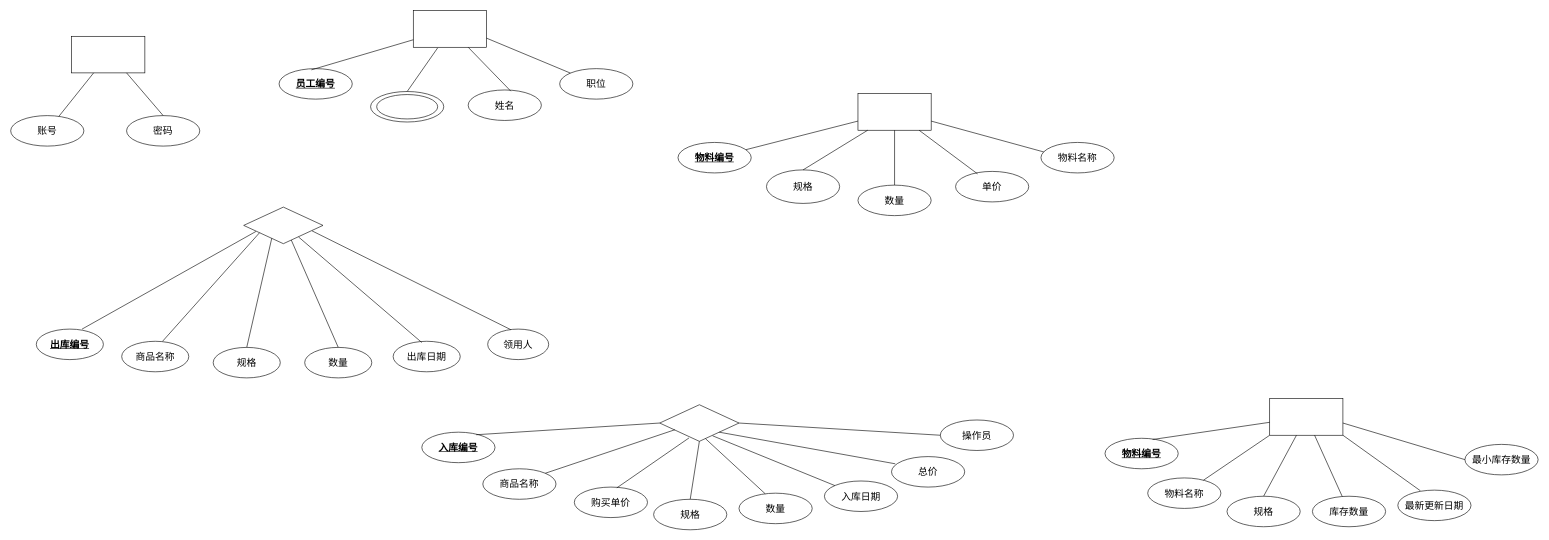
The diagram is 1549 pixels wide and 540 high, and some of its shapes have lost their labels. The centre of each missing label's shape, as x and y in pixels:
"仓库" belongs at (x=1306, y=416).
"入库" belongs at (x=699, y=422).
"出库" belongs at (x=283, y=225).
"员工" belongs at (x=449, y=28).
"物料" belongs at (x=894, y=111).
"用户信息后台" belongs at (x=108, y=54).
"电话号码" belongs at (x=407, y=106).
